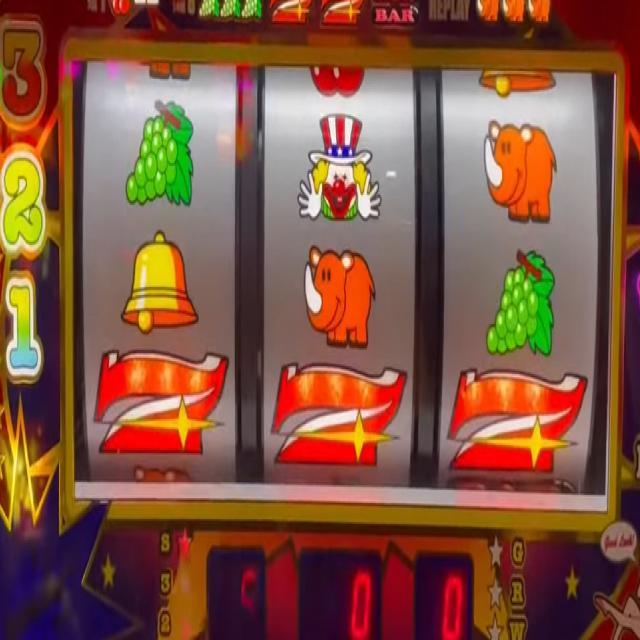bar: (370, 2, 417, 26)
bell: (120, 224, 199, 338), (476, 66, 557, 99)
cherry: (305, 61, 364, 96), (110, 0, 130, 15)
clown: (296, 108, 382, 229)
display: (70, 54, 607, 508)
elephant: (301, 249, 378, 351), (484, 120, 557, 220), (526, 0, 552, 24), (502, 0, 526, 23), (476, 0, 500, 21)
grape: (125, 96, 195, 210), (488, 249, 555, 360), (220, 0, 240, 24), (198, 0, 220, 20), (242, 0, 262, 22)
z: (272, 362, 404, 476), (448, 371, 585, 477), (93, 351, 228, 454), (320, 1, 363, 28), (270, 0, 311, 26)
